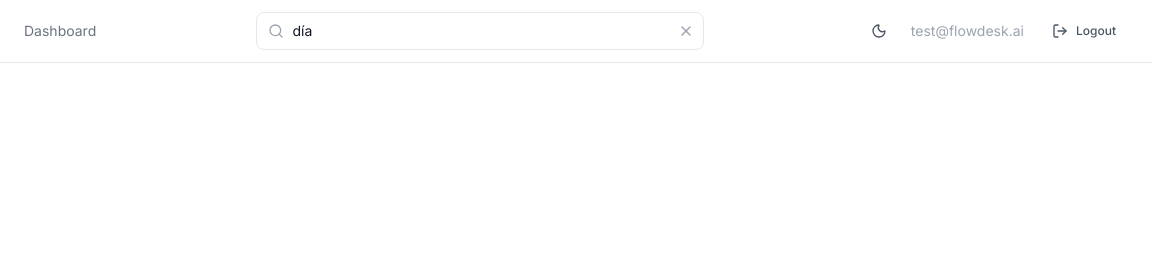
Test: Header › opens dropdown with grouped results on focus
The width and height of the screenshot is (1152, 266).
Focus the field named "Buscar en el inbox". click: (480, 31)
box: [256,12,704,50]
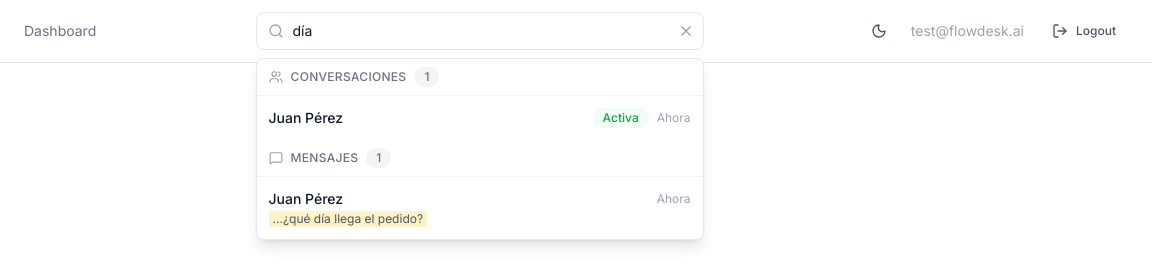
Result: the list named "Resultados de búsqueda" is shown at [256,58,704,240]
Result: the text "Conversaciones" is shown at [290,69,406,85]
Result: the text "Mensajes" is shown at [290,150,358,166]
